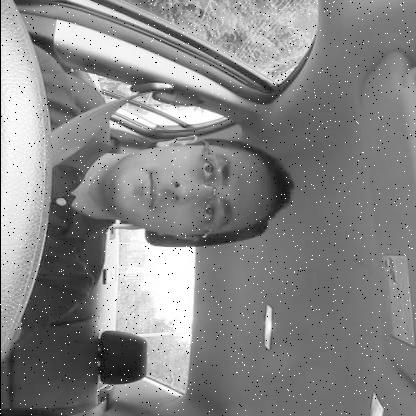seatbelt: (0, 77, 307, 247)
